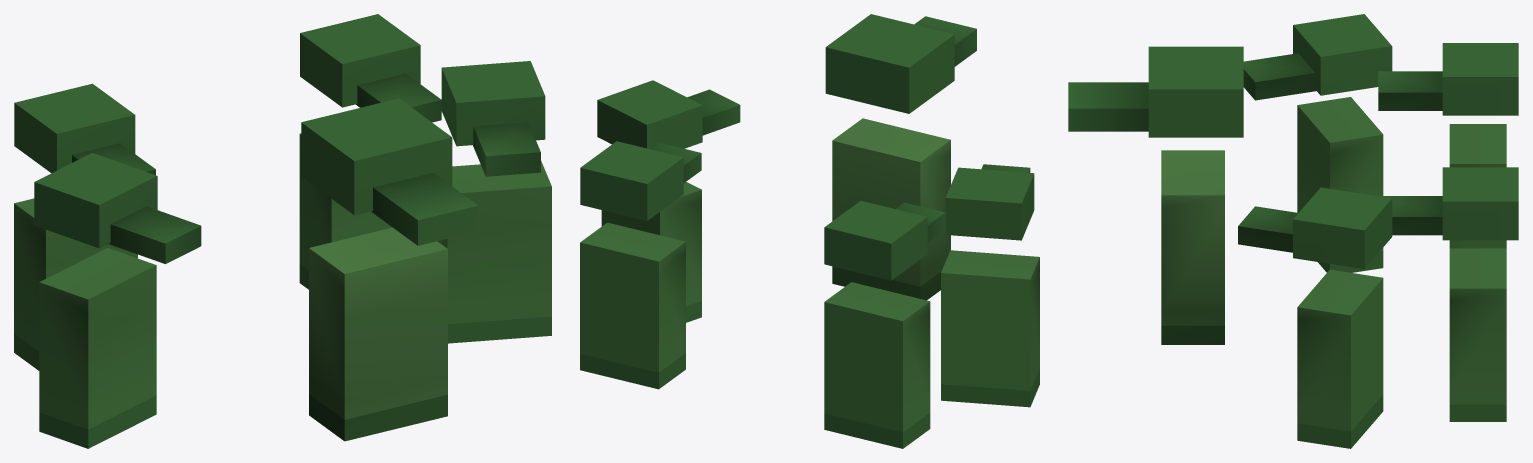
File: gator-gang-lod3.glb
3 renders of one model, left to right at view 1: azimuth 30°, elevation 25°; view 2: azimuth 150°, elevation 25°; view 3: azimuth 270°, elevation 25°, orthographic. The views are drawn at different scales.
Parts seen in each view (by area): view 1: cap_torso, att3_torso, cap_hat, att2_torso, att3_hat, att2_hat, att0_hat, att1_hat, att1_torso, att0_torso; view 2: att1_torso, att0_torso, att3_torso, cap_torso, cap_hat, att2_hat, att1_hat, att0_hat, att3_hat, att2_torso; view 3: att2_torso, cap_hat, cap_torso, att0_torso, att3_hat, att2_hat, att3_torso, att1_hat, att0_hat, att1_torso.
Part boxes in pixels (x1,y1,x2,y2): cap_torso: (309,227,447,441); att3_torso: (39,248,156,448); cap_hat: (301,98,478,245); att2_torso: (437,161,551,343); att3_hat: (34,153,201,263); att2_hat: (441,61,545,176); att0_hat: (300,14,441,122); att1_hat: (14,83,155,175); att1_torso: (14,198,137,370); att0_torso: (299,133,392,289); att1_torso: (824,282,930,448); att0_torso: (580,222,685,389); att3_torso: (941,250,1039,407); cap_torso: (832,118,950,300); cap_hat: (825,14,976,113); att2_hat: (597,80,740,149); att1_hat: (824,201,945,280); att0_hat: (580,141,701,220); att3_hat: (945,164,1034,240); att2_torso: (601,182,701,322); att2_torso: (1297,269,1383,448); cap_hat: (1068,46,1243,137); cap_torso: (1161,150,1224,344); att0_torso: (1449,248,1506,421); att3_hat: (1243,14,1392,100); att2_hat: (1238,187,1392,268); att3_torso: (1297,97,1383,272); att1_hat: (1378,43,1518,115); att0_hat: (1378,167,1518,240); att1_torso: (1449,124,1506,248).
Bounding box in the file's own units: 2.18 × 1.26 × 1.89.
